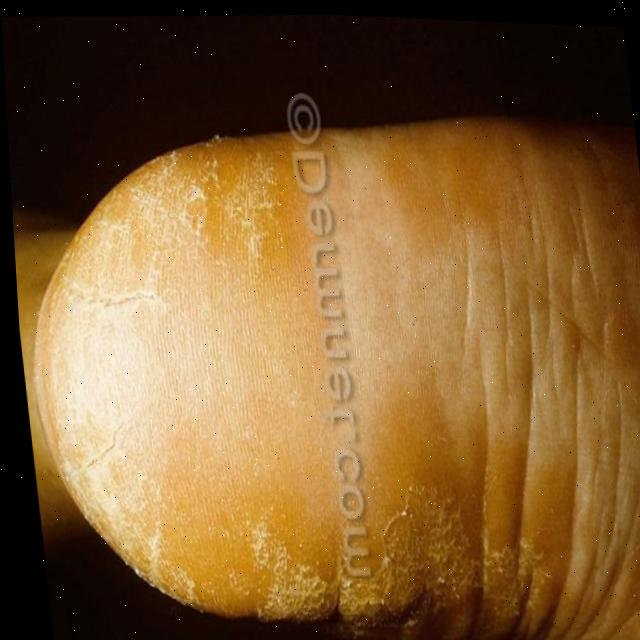Eczema: (8, 110, 561, 640)
